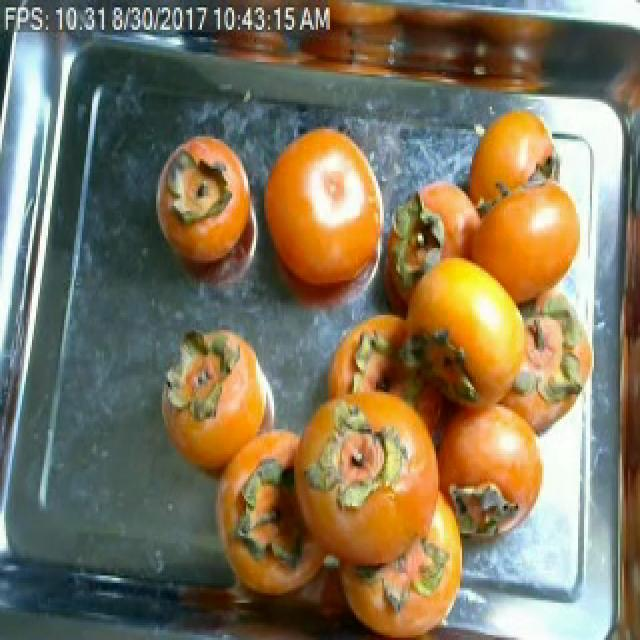Fruit: (158, 315, 278, 459), (456, 97, 568, 221), (150, 127, 250, 238)
